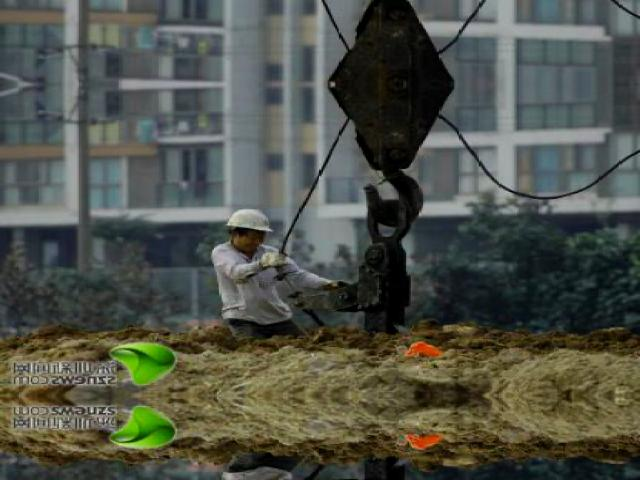Helmet: (221, 203, 276, 239)
